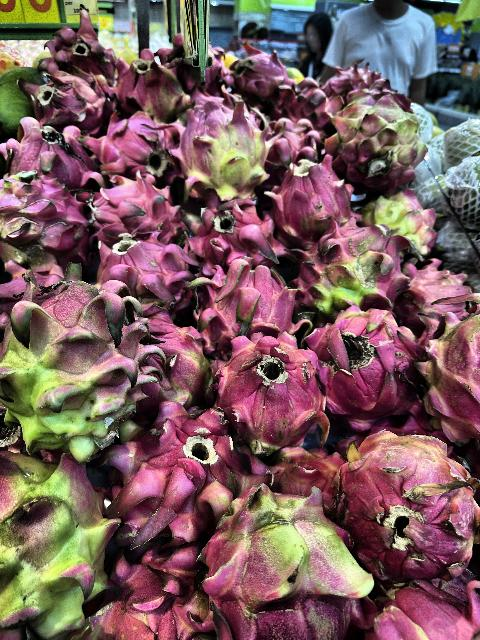buah-naga-belum-matang: (4, 268, 168, 454), (196, 496, 374, 640), (0, 444, 122, 640), (328, 429, 480, 577), (324, 84, 446, 186), (162, 99, 276, 199), (294, 218, 410, 316), (0, 166, 94, 278), (132, 306, 212, 414), (416, 305, 480, 439), (354, 182, 448, 262), (104, 46, 188, 122)
buah-naga-matang: (116, 406, 258, 554), (208, 323, 334, 455), (298, 307, 422, 423), (186, 260, 301, 350), (94, 548, 204, 640), (89, 236, 202, 316), (84, 169, 188, 247), (183, 200, 287, 272), (360, 578, 480, 640), (268, 158, 356, 238), (0, 113, 90, 191), (14, 66, 112, 136), (86, 116, 174, 186), (36, 10, 114, 81), (260, 114, 321, 170), (226, 45, 286, 95)
